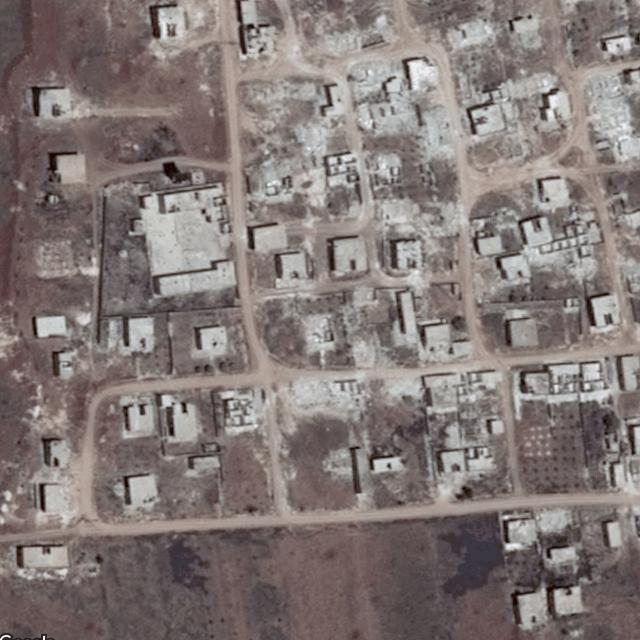damaged_building: (271, 376, 425, 439), (245, 121, 358, 202), (359, 86, 454, 159), (521, 216, 603, 284), (582, 69, 640, 160), (297, 312, 338, 353), (416, 317, 451, 360), (367, 152, 404, 185), (532, 506, 574, 532)
